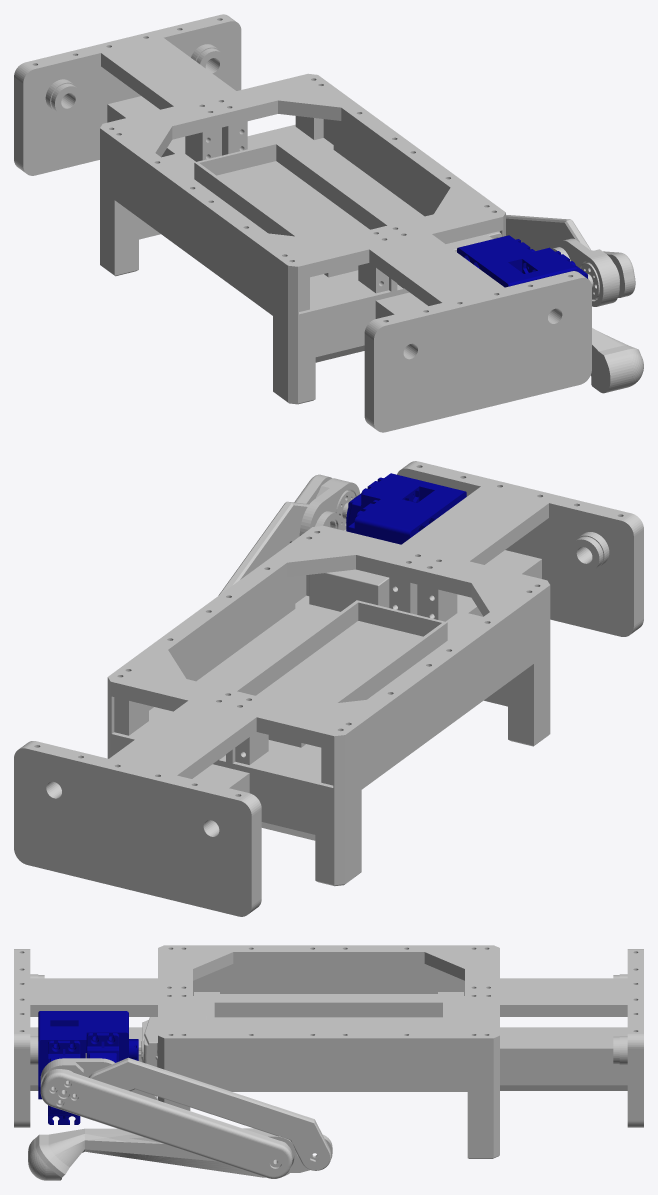
The model's file is RoboDog Correct Origins.obj.
3 renders of one model, top to bottom at view 1: azimuth 30°, elevation 25°; view 2: azimuth 150°, elevation 25°; view 3: azimuth 270°, elevation 25°, orthographic. The views are drawn at different scales.
Parts seen in each view (by area): view 1: Robodog_Quarter.001, Robodog_Quarter.002, Robodog_Quarter.020, Robodog_Quarter.005, Robodog_Quarter.018, Robodog_Quarter.013; view 2: Robodog_Quarter.001, Robodog_Quarter.002, Robodog_Quarter.018, Robodog_Quarter.005; view 3: Robodog_Quarter.001, Robodog_Quarter.013, Robodog_Quarter.018, Robodog_Quarter.020, Robodog_Quarter.002, Robodog_Quarter.005.
Boxes of the visible parts, bbox=[...] form: Robodog_Quarter.001: bbox=[14, 14, 591, 432]; Robodog_Quarter.002: bbox=[457, 235, 587, 287]; Robodog_Quarter.020: bbox=[590, 328, 643, 393]; Robodog_Quarter.005: bbox=[557, 238, 619, 306]; Robodog_Quarter.018: bbox=[506, 215, 591, 250]; Robodog_Quarter.013: bbox=[534, 250, 635, 300]; Robodog_Quarter.001: bbox=[14, 461, 643, 916]; Robodog_Quarter.002: bbox=[346, 473, 466, 544]; Robodog_Quarter.018: bbox=[218, 501, 308, 595]; Robodog_Quarter.005: bbox=[299, 478, 360, 535]; Robodog_Quarter.001: bbox=[14, 945, 643, 1158]; Robodog_Quarter.013: bbox=[40, 1069, 292, 1178]; Robodog_Quarter.018: bbox=[88, 1057, 331, 1170]; Robodog_Quarter.020: bbox=[28, 1128, 332, 1180]; Robodog_Quarter.002: bbox=[38, 1011, 138, 1124]; Robodog_Quarter.005: bbox=[40, 1058, 114, 1086].
Bounding box in the file's own units: 0.1785 × 0.0825 × 0.3887.
